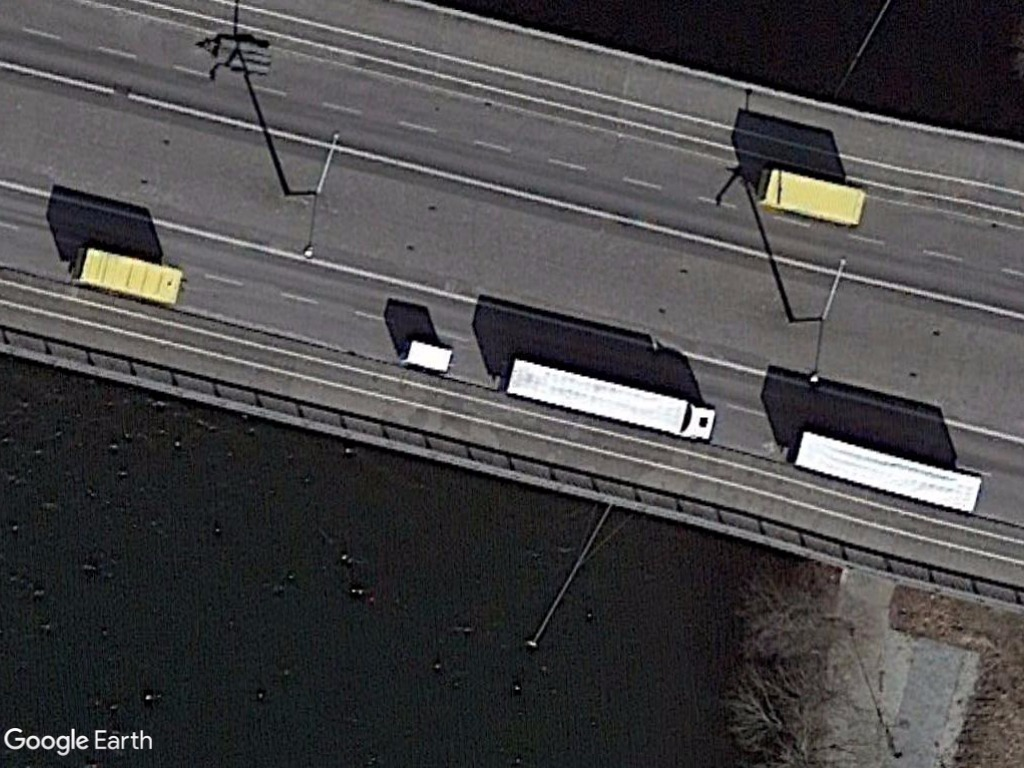longvehicle: (503, 352, 722, 449), (788, 423, 988, 518), (65, 238, 189, 308), (749, 160, 873, 229)
